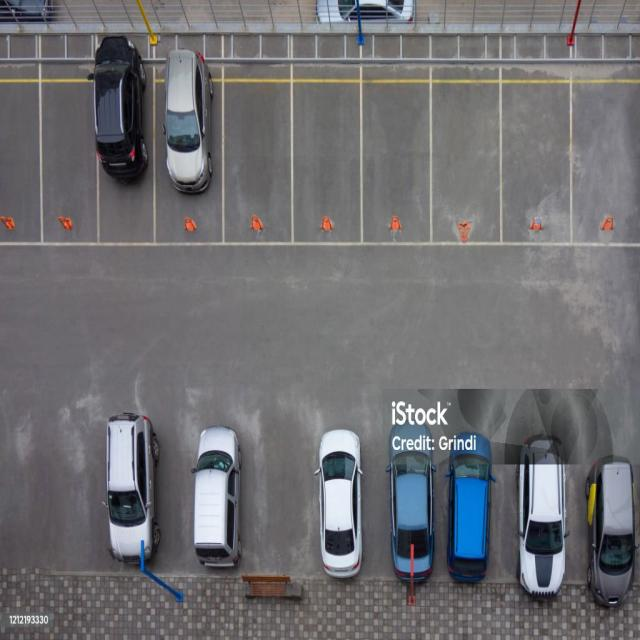libre: (224, 68, 637, 257), (2, 406, 101, 577), (0, 64, 94, 238), (251, 435, 311, 583), (162, 425, 192, 569)
ocupado: (384, 394, 640, 616), (96, 41, 216, 242), (101, 380, 161, 569), (192, 390, 244, 572), (316, 415, 368, 585)
